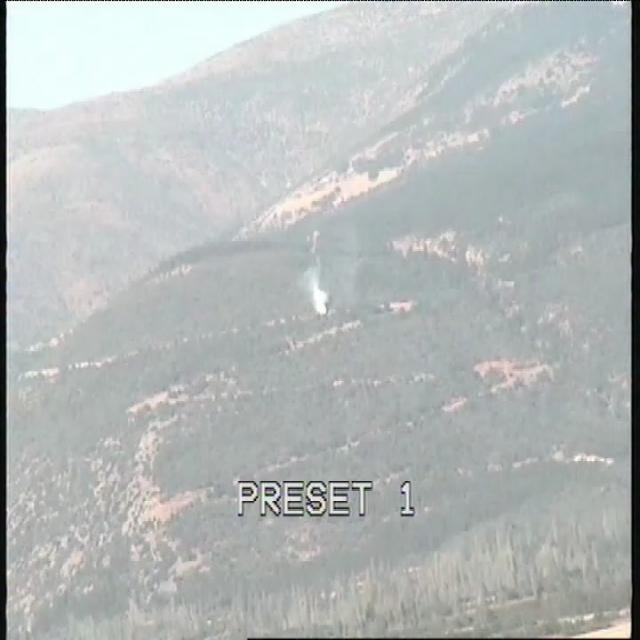smoke: (302, 258, 329, 318)
